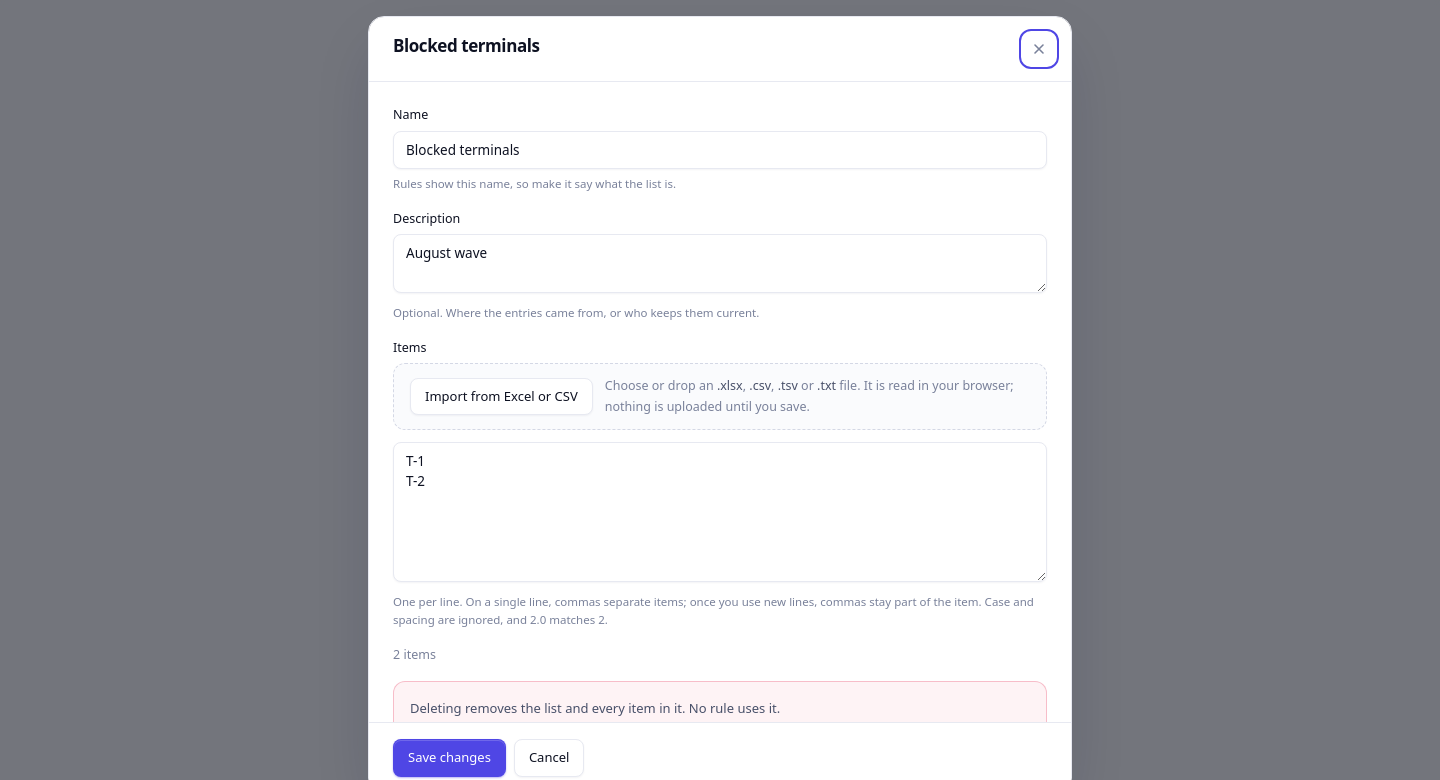
Scenario: the engine refusing a write › shows the 403 on save and keeps what was typed, open
Step 1. Type " v2" into the field showing "Blocked terminals" → (720, 150), box [393,131,1047,169]
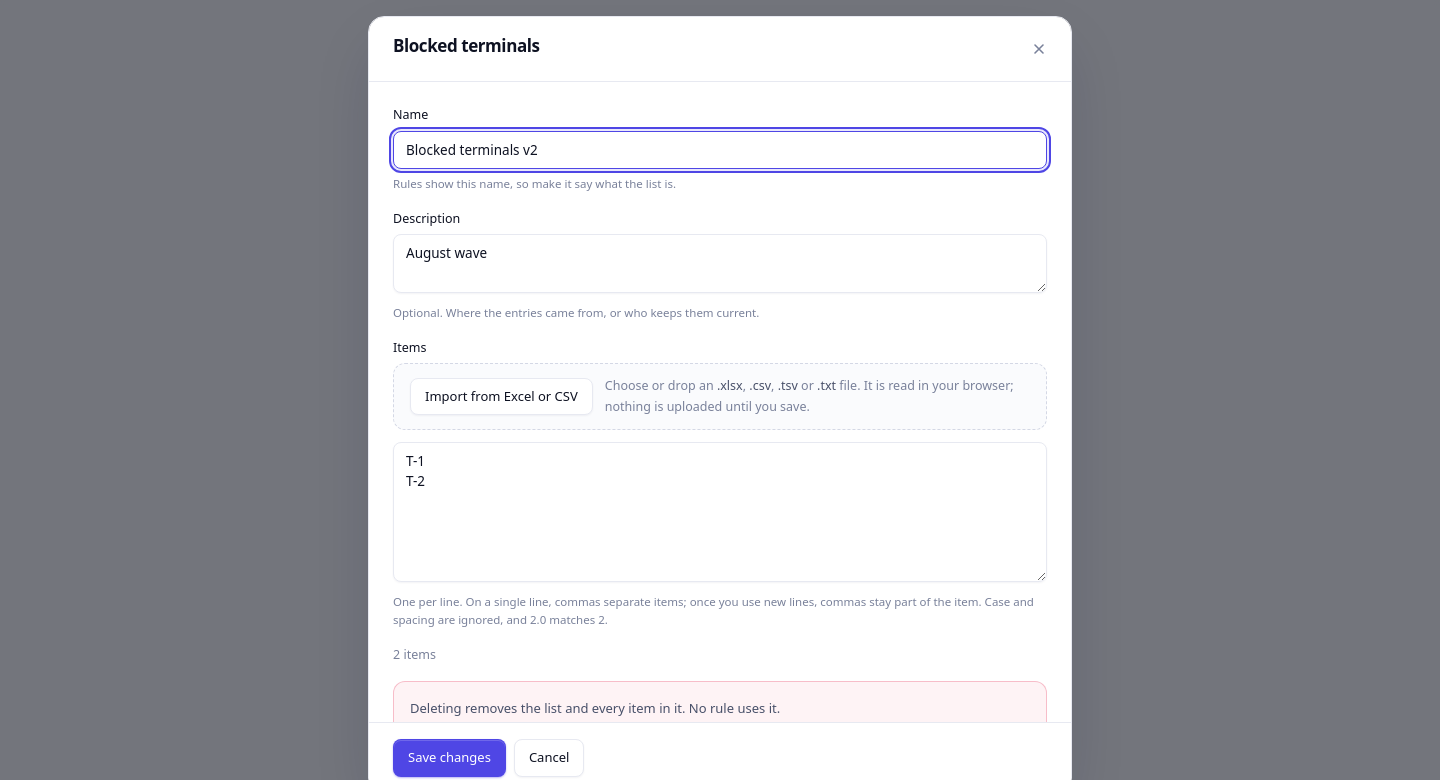
Step 2. Click the button "Save changes" → (449, 758), box [393,740,506,777]
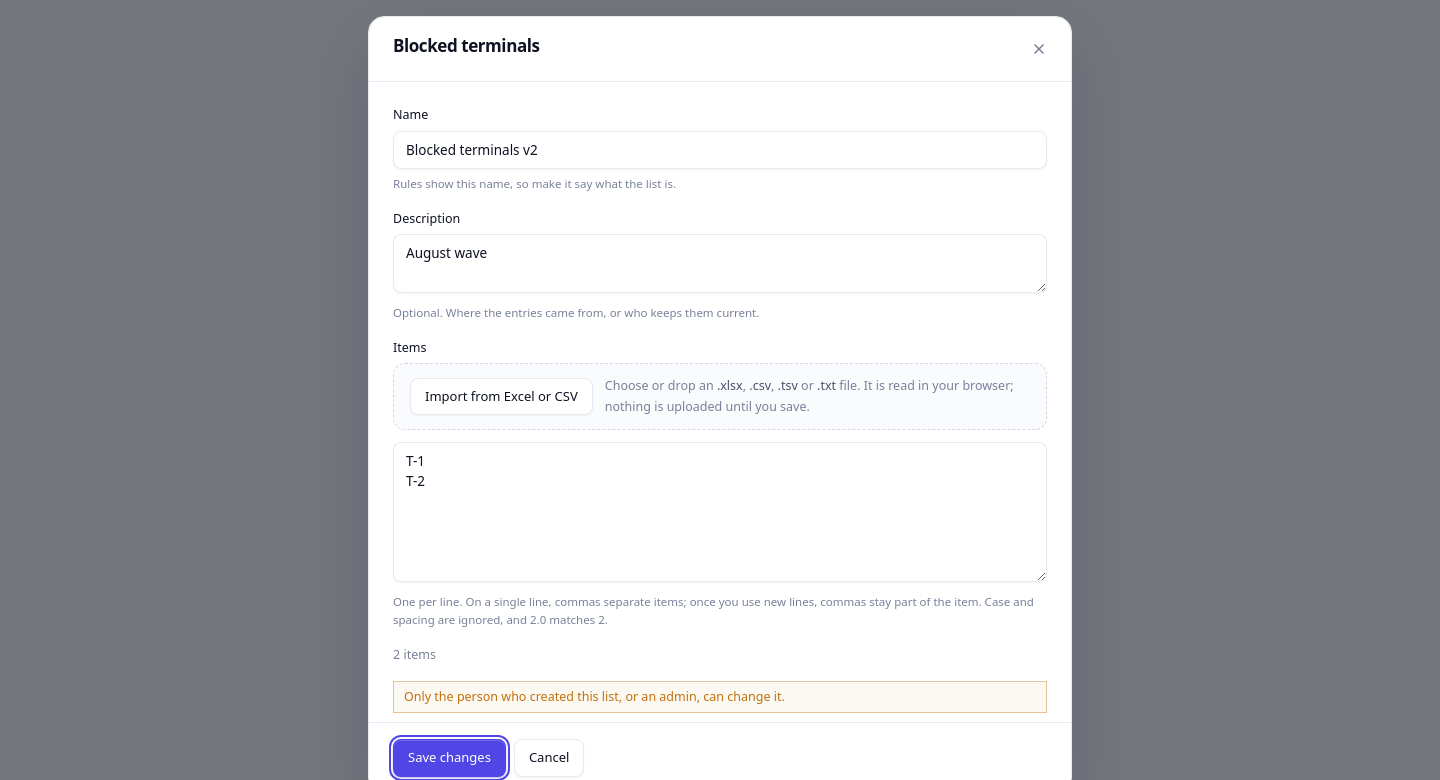
Check: the field showing "Blocked terminals v2" is shown, box [393,131,1047,169]
Check: the message reads "Only the person who created this list, or an admin, can change it.", box [404,688,785,705]
